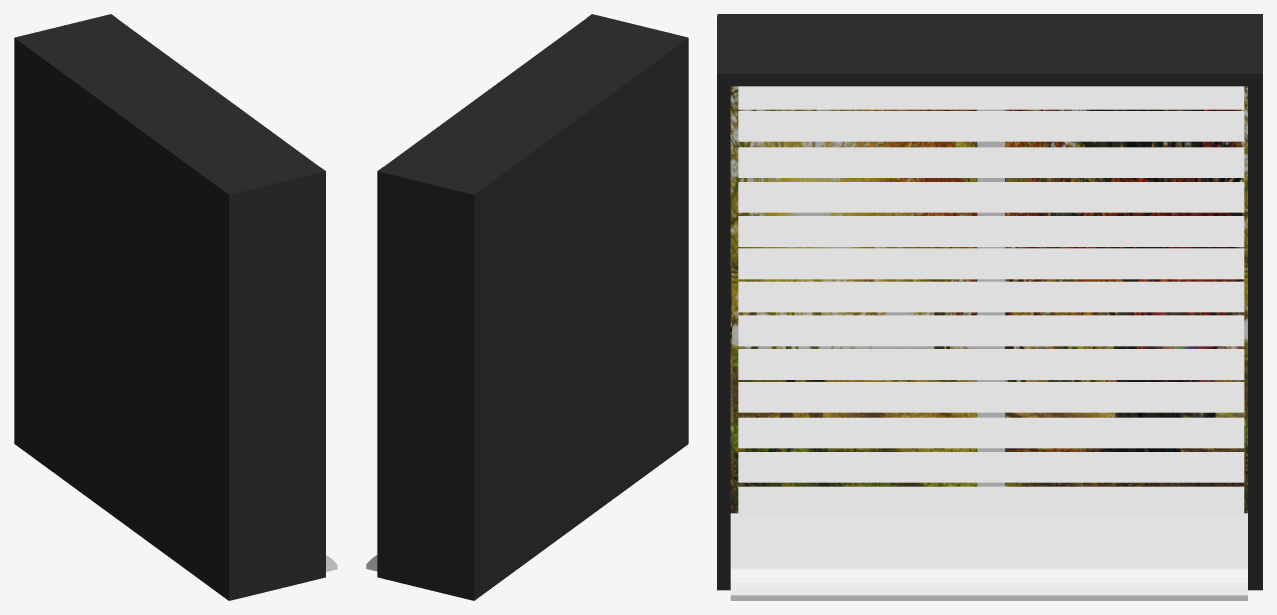
File: Okno.fbx
The picture shows the model from 3 angles, left to right: view 1: azimuth 30°, elevation 25°; view 2: azimuth 150°, elevation 25°; view 3: azimuth 270°, elevation 25°; orthographic projection. The views are drawn at different scales.
Visible parts, largest first — view 1: Cube; view 2: Cube; view 3: Cube.
Boxes of the visible parts, x1,y1,x2,y2 form: Cube: (14, 14, 337, 600); Cube: (366, 14, 688, 600); Cube: (717, 14, 1262, 600).
Bounding box in the file's own units: 260 × 884 × 848.
